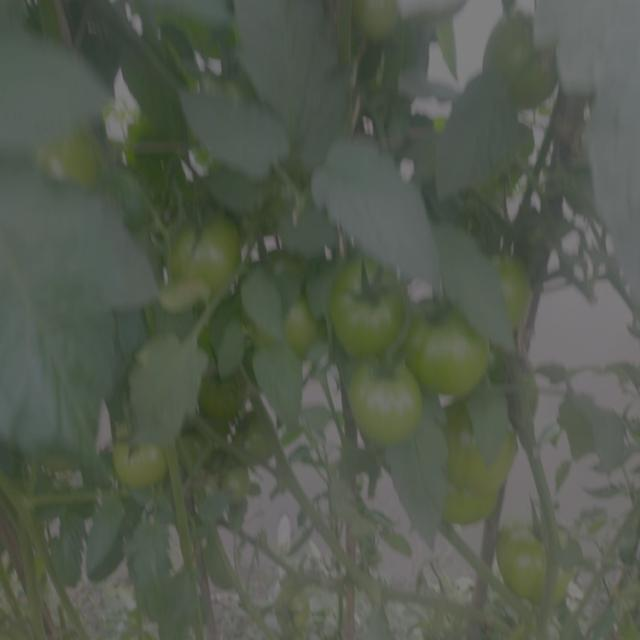tomato: (162, 194, 248, 296), (416, 296, 496, 398), (331, 254, 405, 349), (485, 11, 562, 101), (350, 357, 425, 448), (258, 265, 323, 347), (108, 421, 172, 492), (479, 247, 533, 328), (458, 427, 521, 486), (498, 526, 551, 594), (53, 132, 99, 197), (445, 484, 504, 528), (360, 1, 411, 43)
